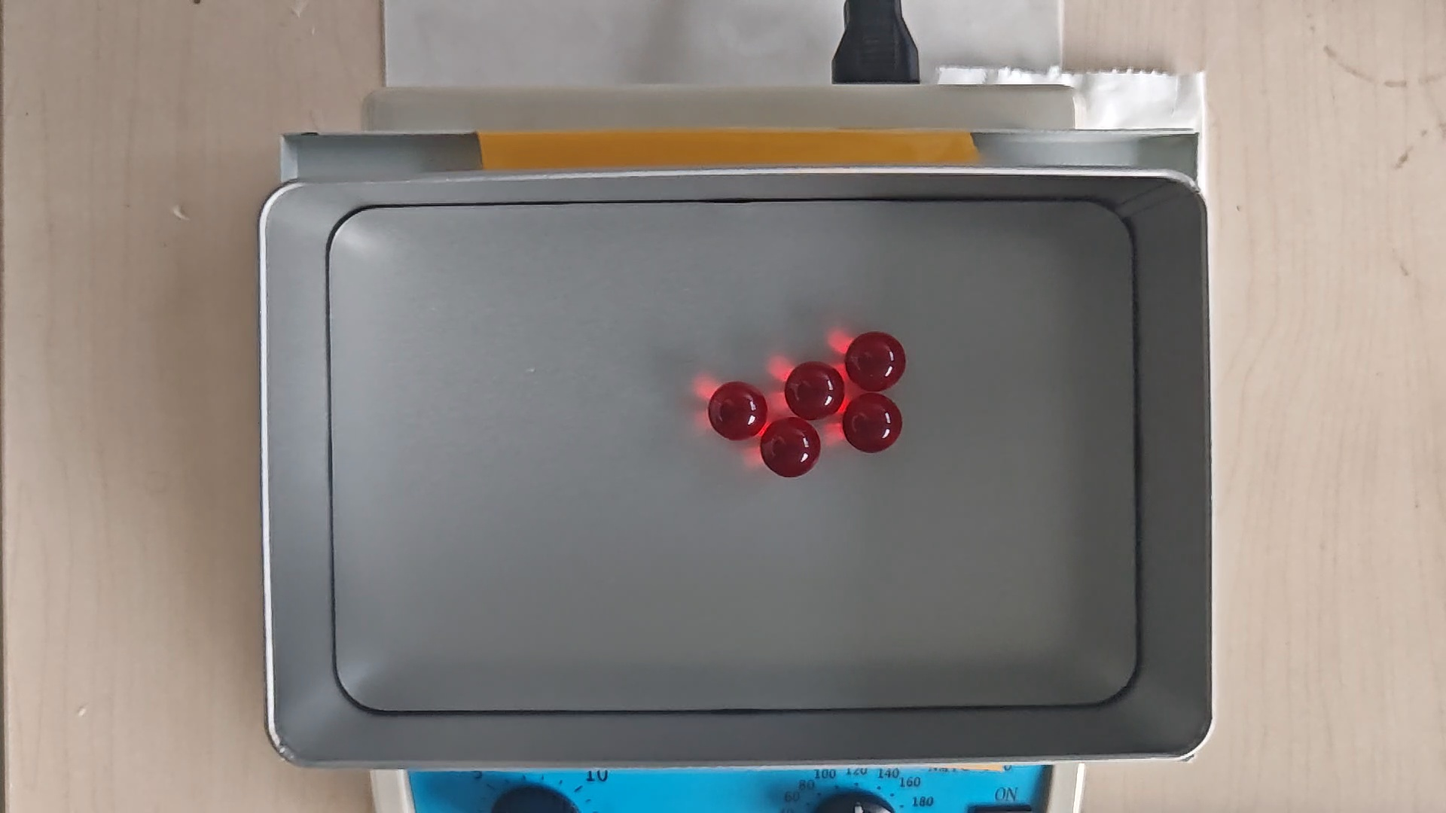ball: (847, 330, 905, 393), (843, 393, 901, 453), (787, 361, 844, 421), (764, 418, 820, 478), (709, 382, 765, 440)
container: (327, 199, 1142, 711)
